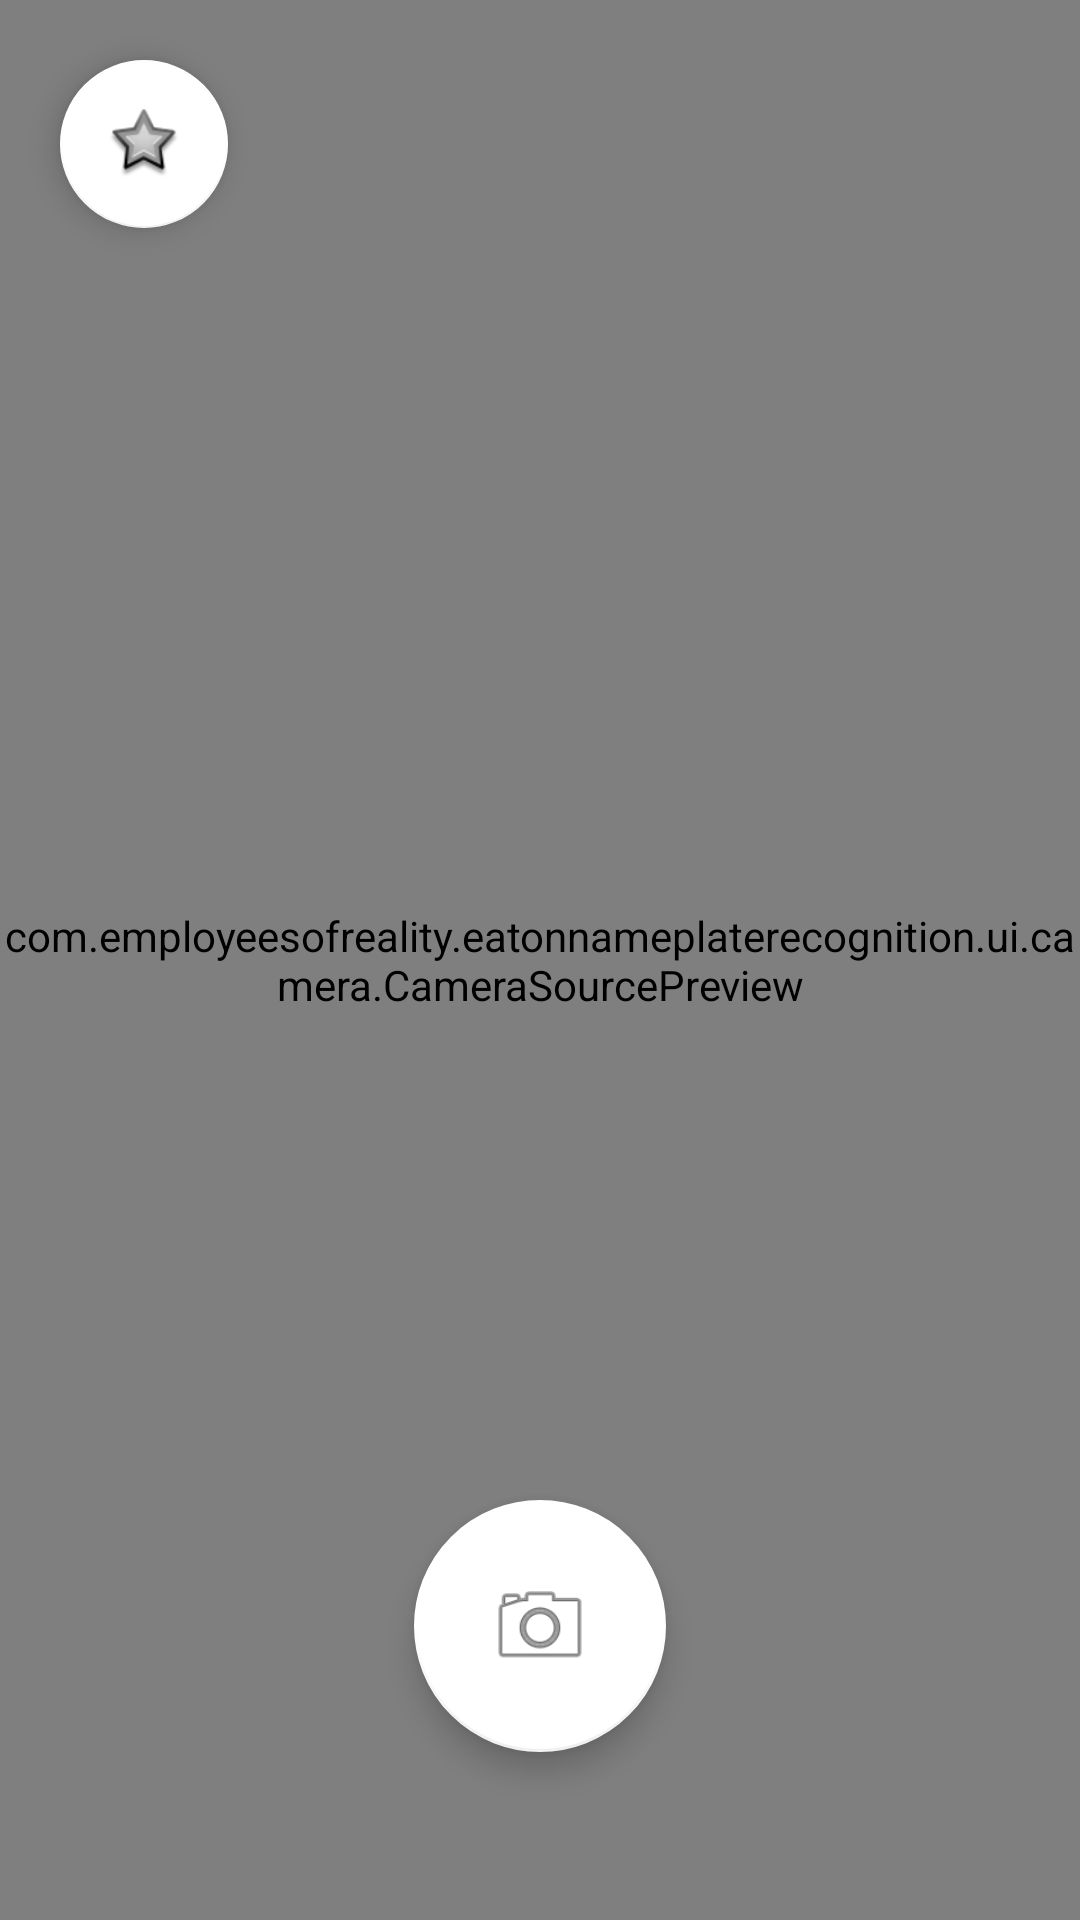

Screen size 1080px×1920px. Icon name, then its center in pixels as [x,y]:
star off: [144,144]
